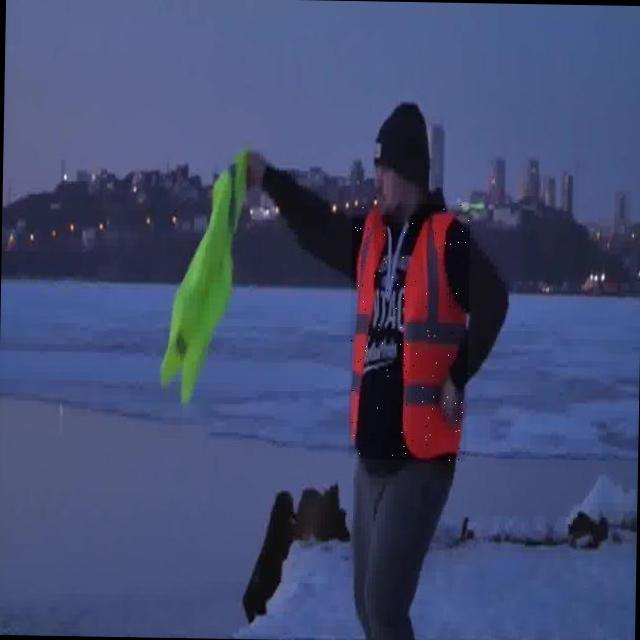Person: (153, 37, 526, 640)
Safety Vest: (348, 203, 470, 461), (158, 139, 267, 407)
bare-arms: (245, 139, 271, 201), (440, 366, 464, 433)
no-helmet: (371, 96, 439, 176)
